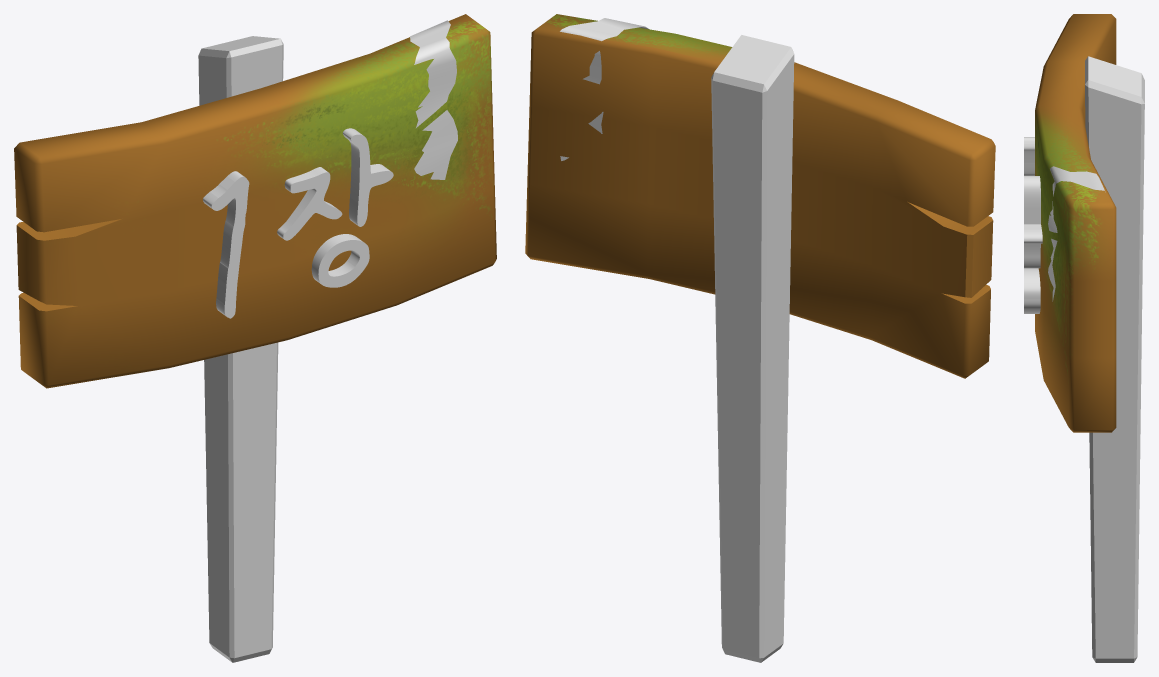
Rendered from 1Panel.FBX.
3 renders of one model, left to right at view 1: azimuth 30°, elevation 25°; view 2: azimuth 150°, elevation 25°; view 3: azimuth 270°, elevation 25°, orthographic. The views are drawn at different scales.
Parts seen in each view (by area): view 1: Box048, Box047, 장, 미역, number; view 2: Box048, Box047, 미역; view 3: Box048, Box047, 장, 미역, number.
Part boxes in pixels (x1,y1,x2,y2): Box048: (14,14,496,388); Box047: (198,36,283,662); 장: (277,128,393,287); 미역: (410,20,457,179); number: (202,171,249,318); Box048: (525,14,995,378); Box047: (711,35,794,662); 미역: (560,18,648,160); Box048: (1035,14,1116,432); Box047: (1085,56,1144,662); 장: (1024,176,1042,313); 미역: (1048,166,1105,301); number: (1024,137,1034,175).
Size of the model in its own units: 78.87 by 100 by 18.75.
